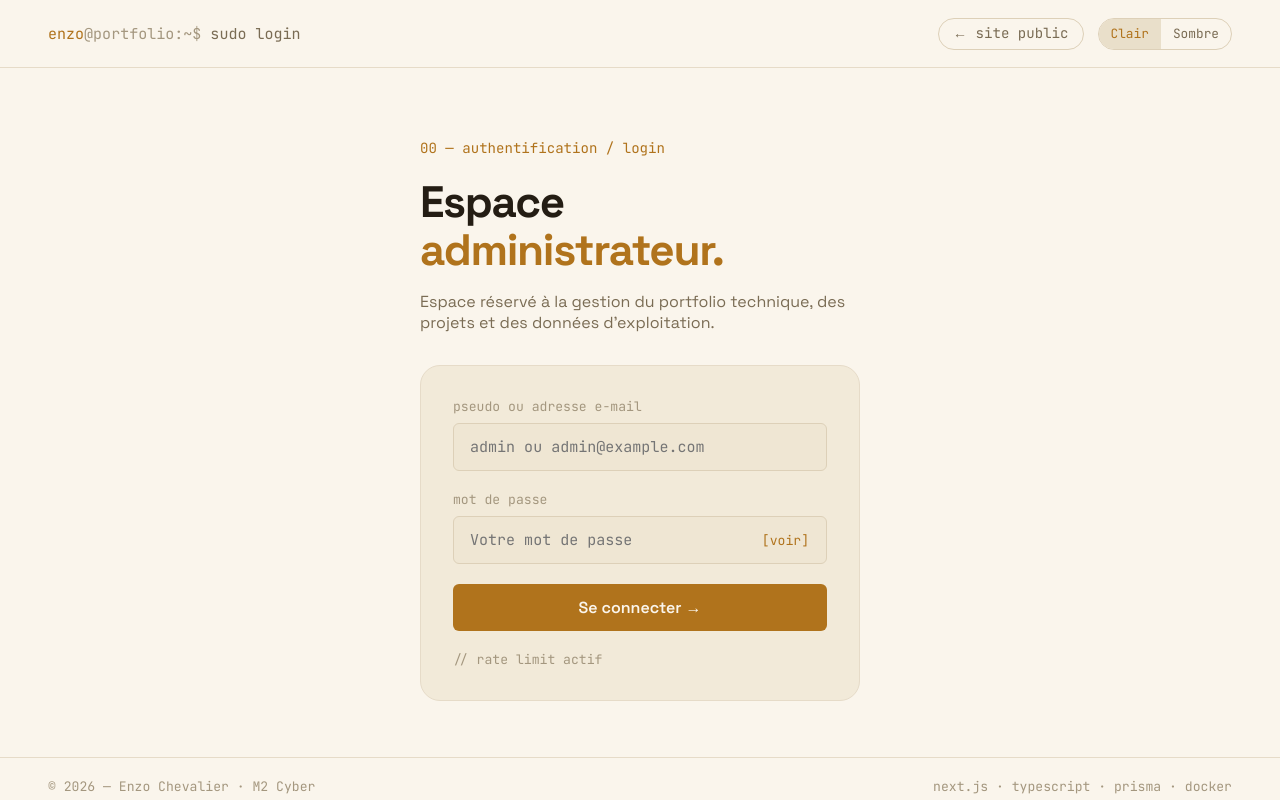
Scenario: AdminLoginPage › renders a dedicated error when login is rate limited
In the field labelled "Pseudo ou adresse e-mail": (640, 447) [453, 423, 827, 471], type "admin"
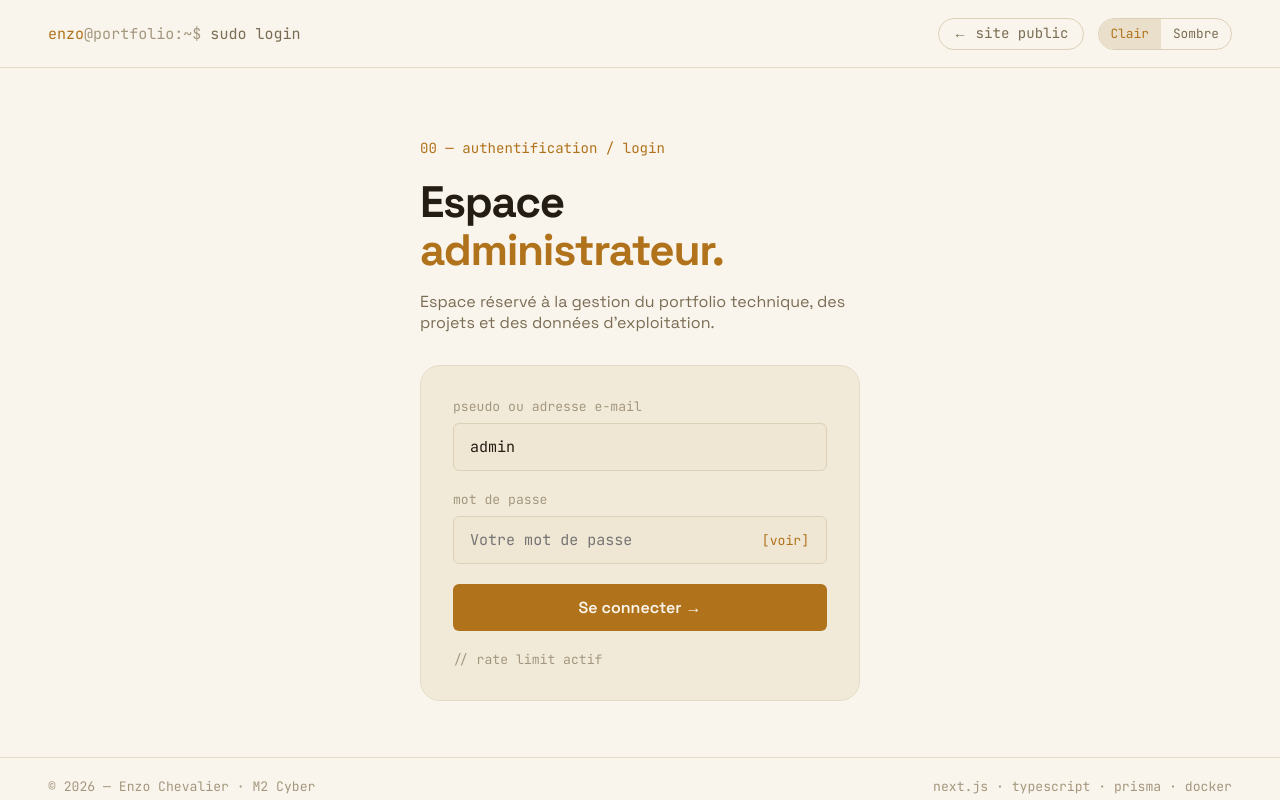
In the password field labelled "Mot de passe": (640, 540) [453, 516, 827, 564], type "wrong-password"
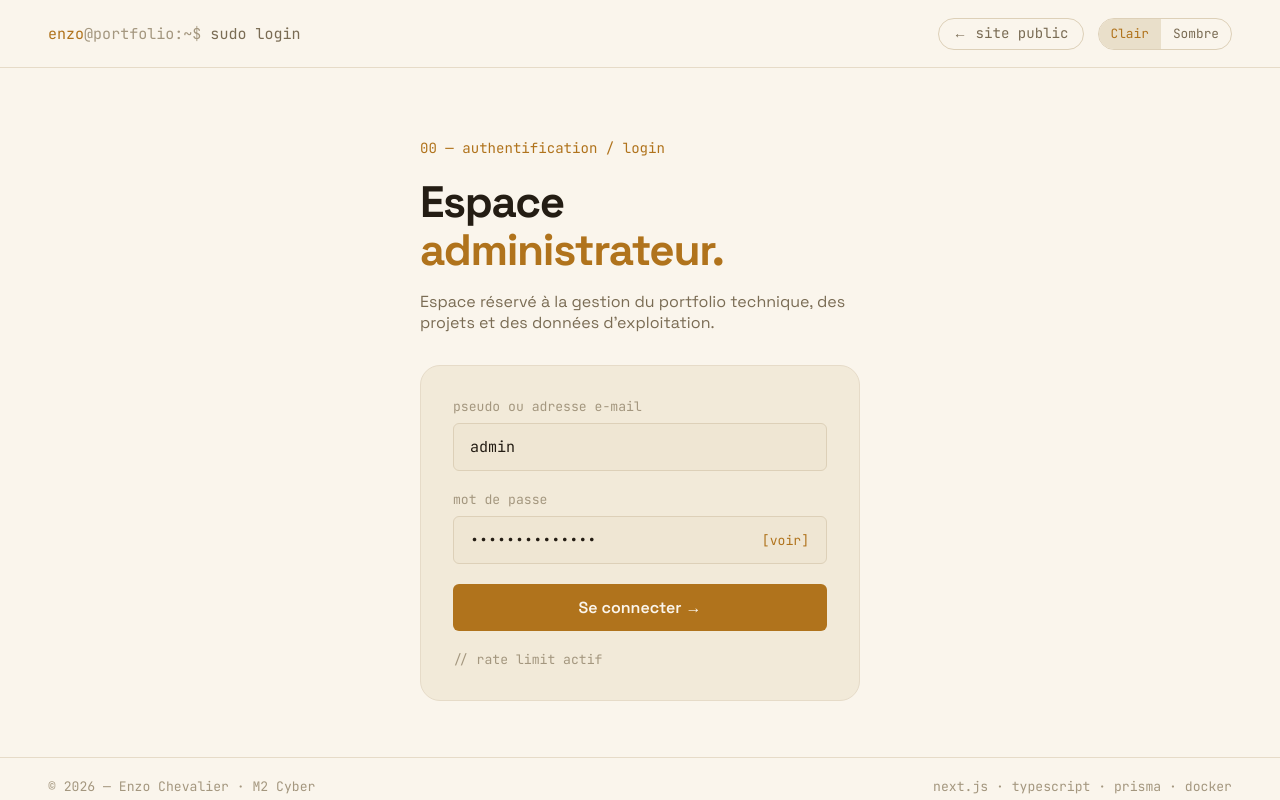
Click the button "Se connecter →": (640, 607) [453, 584, 827, 631]
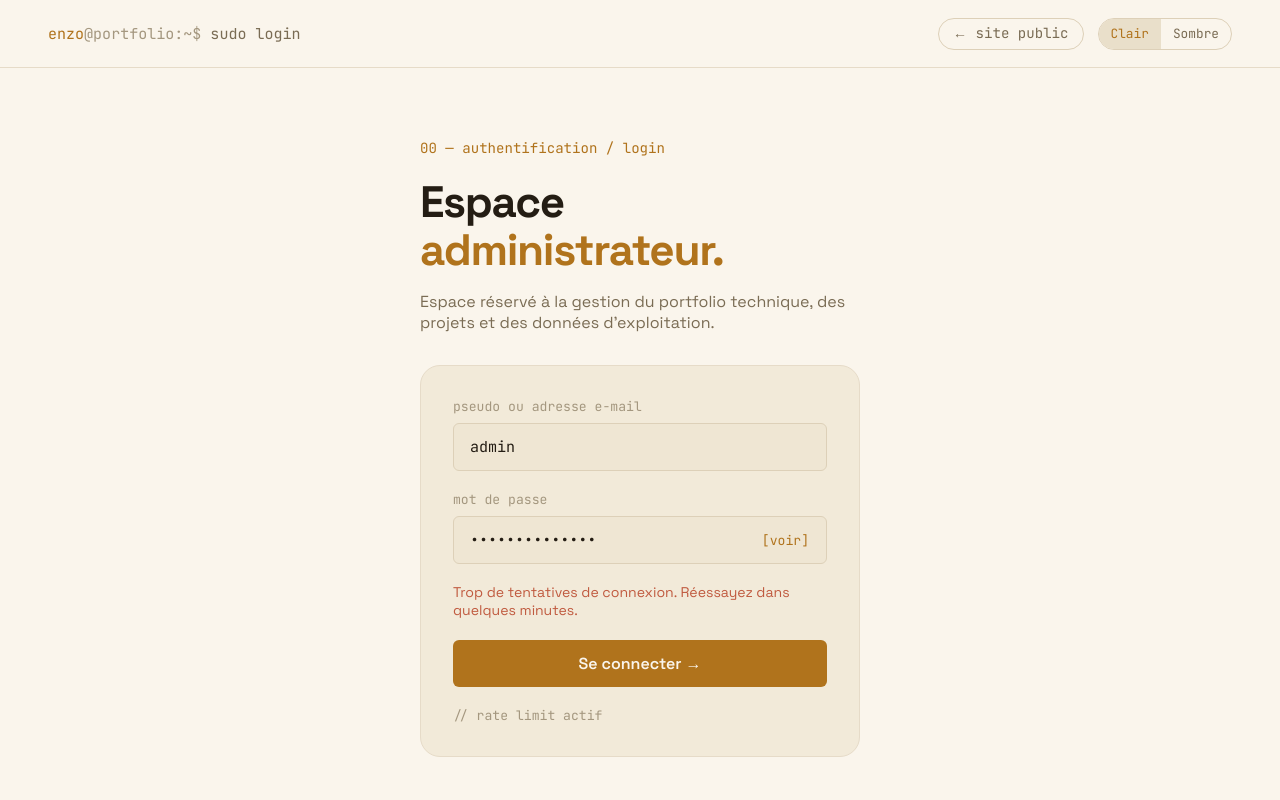
Result: the message reads "Trop de tentatives de connexion. Réessayez dans quelques minutes." at [453, 584, 790, 620]
